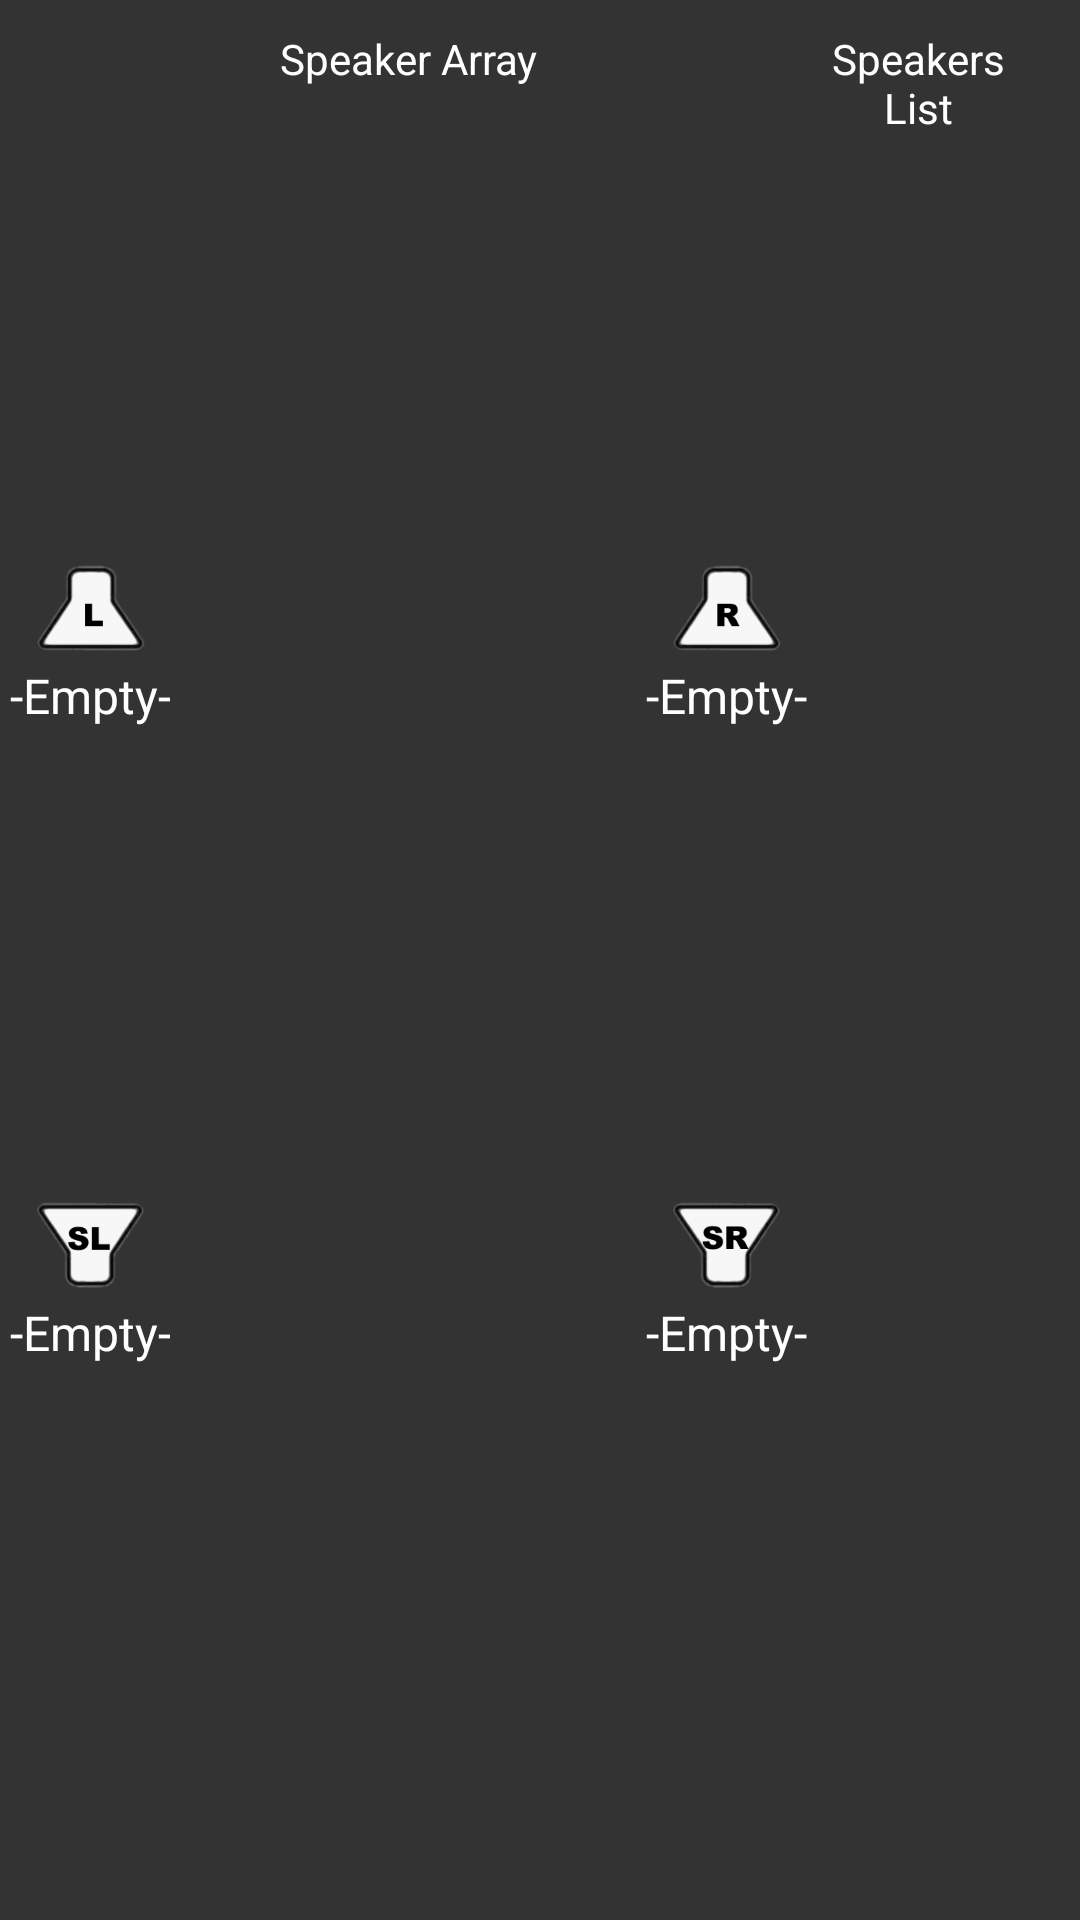

Icon click points for this 1080x1920 phone screenshot, format (x,y):
atp speaker: (91,608), (727,608)
atp speaker sl: (90,1245)
atp speaker sr: (726,1245)
